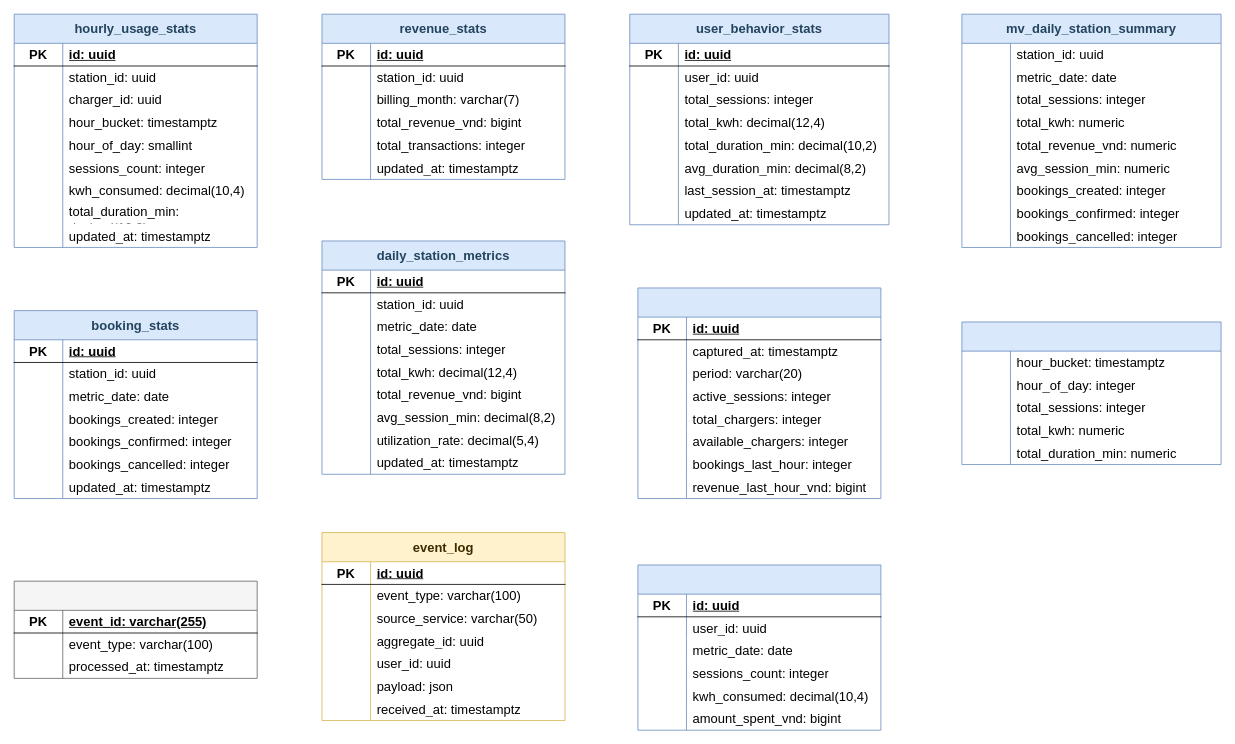
This 1235x744 diagram has some shape labels left out. Here are the shapes that lost their labels. From the top down, the box of each, then its label:
(637, 287, 881, 499): platform_kpi_snapshots
(961, 321, 1221, 465): mv_hourly_demand
(13, 580, 257, 678): processed_events
(637, 564, 881, 730): daily_user_metrics
